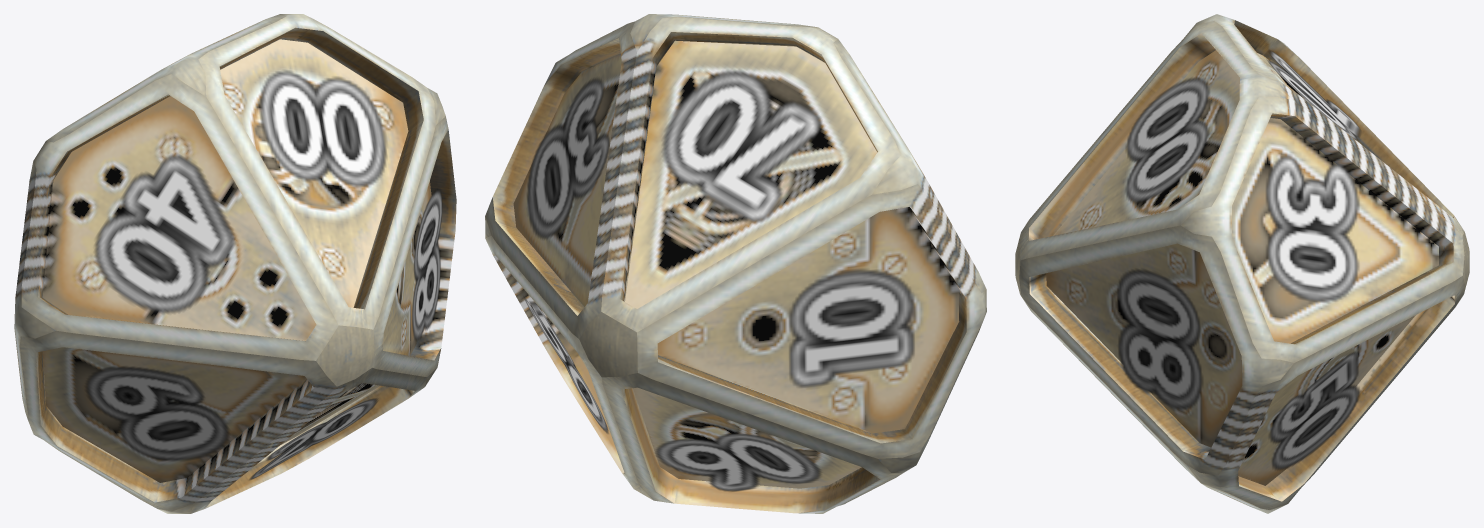
3 renders of one model, left to right at view 1: azimuth 30°, elevation 25°; view 2: azimuth 150°, elevation 25°; view 3: azimuth 270°, elevation 25°, orthographic. The views are drawn at different scales.
Parts seen in each view (by area): view 1: D100, D100_Numbers; view 2: D100, D100_Numbers; view 3: D100, D100_Numbers.
Part boxes in pixels (x1,y1,x2,y2): D100: (14,14,456,513); D100_Numbers: (85,70,442,479); D100: (485,14,986,513); D100_Numbers: (523,70,914,491); D100: (1015,14,1469,513); D100_Numbers: (1117,50,1361,470).
Size of the model in its own units: 2.06 by 1.97 by 1.85.
2 materials, 2 textured.
